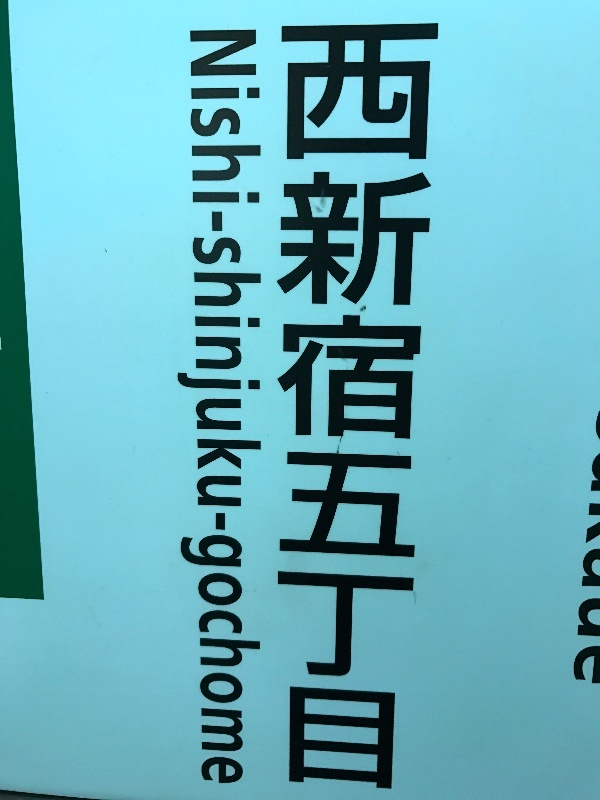text: (289, 18, 304, 797), (305, 18, 320, 797), (321, 18, 336, 797), (337, 18, 352, 797), (353, 18, 368, 797), (369, 18, 384, 797), (385, 18, 400, 797), (401, 18, 416, 797), (417, 18, 432, 797), (433, 18, 448, 797), (449, 18, 464, 797), (193, 21, 208, 790), (209, 21, 224, 790), (225, 21, 240, 790), (241, 21, 256, 790), (257, 21, 272, 790), (278, 18, 288, 797), (187, 21, 192, 790), (465, 18, 468, 797), (595, 403, 600, 695), (273, 21, 274, 790)
